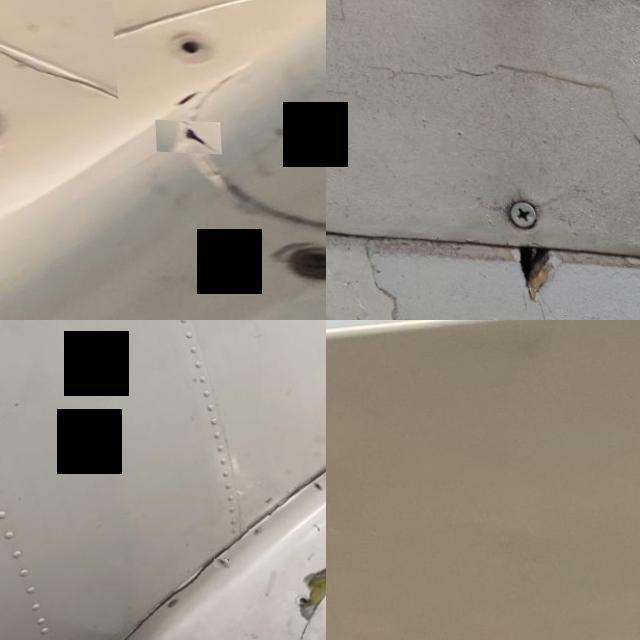Crack: (477, 218, 589, 320), (0, 0, 114, 97), (128, 546, 208, 612), (152, 119, 218, 152)
Missing_Fastener: (269, 237, 326, 280), (168, 28, 215, 56), (208, 554, 222, 564), (306, 478, 316, 486)
